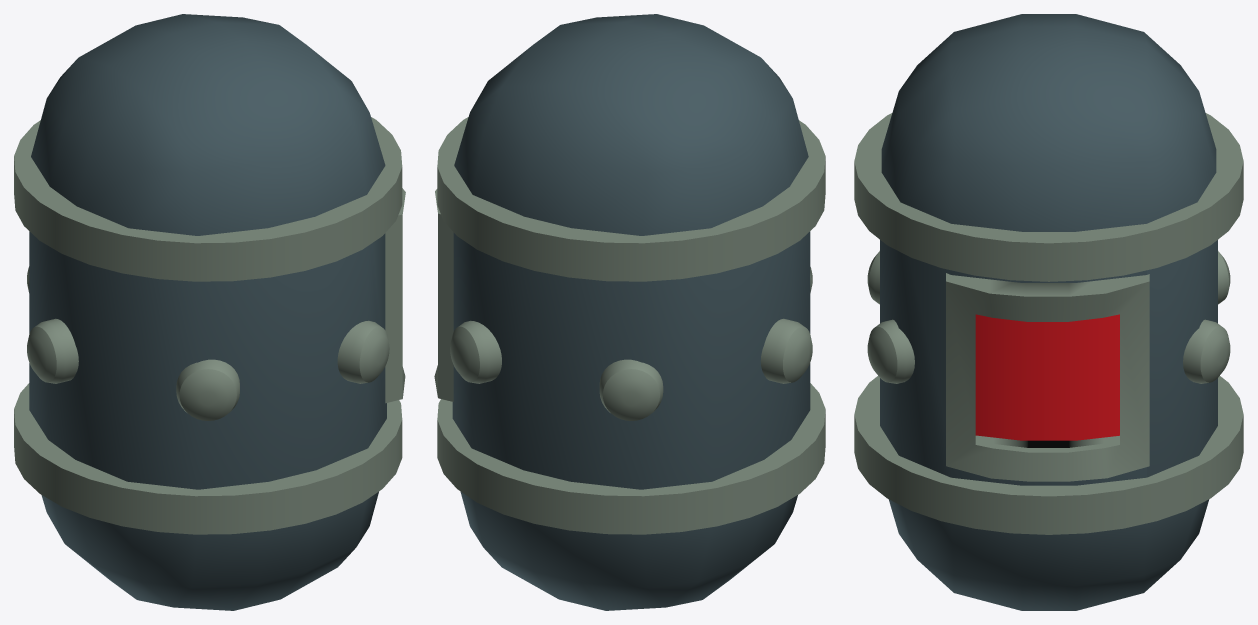
3 renders of one model, left to right at view 1: azimuth 30°, elevation 25°; view 2: azimuth 150°, elevation 25°; view 3: azimuth 270°, elevation 25°, orthographic.
Visible parts, largest first — view 1: Cube, Cylinder.001, Cylinder, Cylinder.002, Plane; view 2: Cube, Cylinder.001, Cylinder, Cylinder.002, Plane; view 3: Cube, Plane, Cylinder.001, Cylinder, Cylinder.002.
Boxes of the visible parts, bbox=[...] form: Cube: bbox=[29, 14, 386, 610]; Cylinder.001: bbox=[14, 117, 402, 281]; Cylinder: bbox=[14, 383, 402, 534]; Cylinder.002: bbox=[27, 266, 389, 420]; Plane: bbox=[385, 188, 405, 403]; Cube: bbox=[452, 14, 810, 610]; Cylinder.001: bbox=[437, 117, 825, 281]; Cylinder: bbox=[437, 383, 825, 534]; Cylinder.002: bbox=[450, 267, 812, 420]; Plane: bbox=[434, 189, 453, 401]; Cube: bbox=[880, 14, 1217, 610]; Plane: bbox=[946, 273, 1149, 481]; Cylinder.001: bbox=[854, 113, 1243, 281]; Cylinder: bbox=[854, 376, 1243, 534]; Cylinder.002: bbox=[867, 251, 1230, 383].
Bounding box in the file's own units: 238 × 358 × 230.
